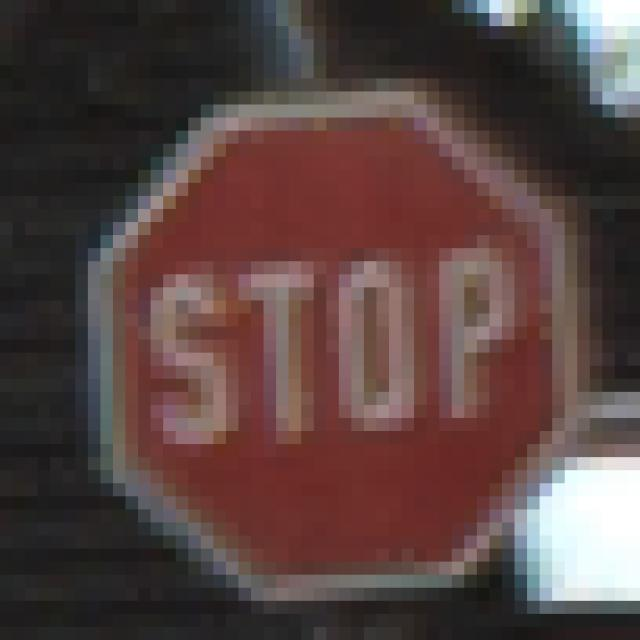STOP: (77, 66, 579, 576)
